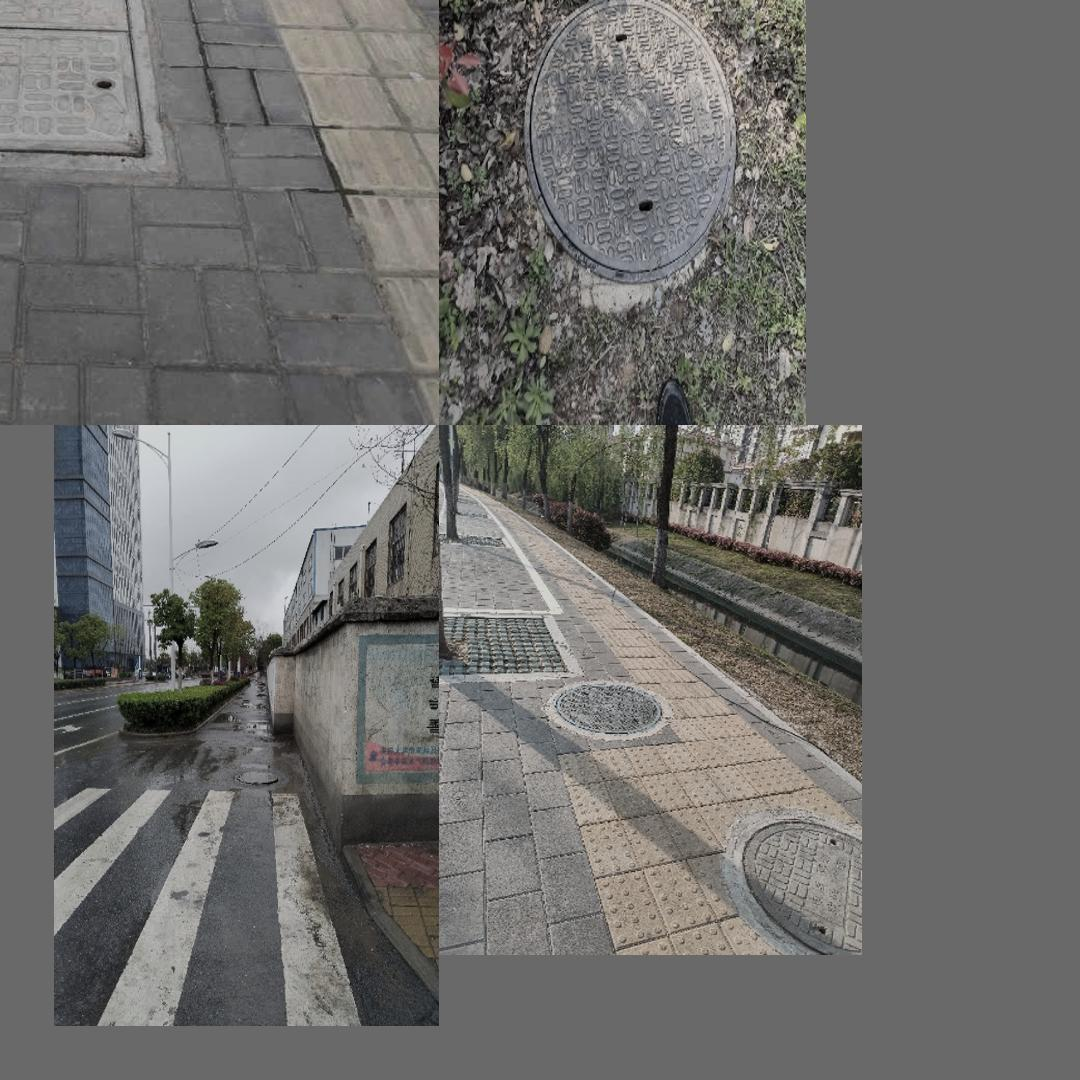good: (525, 0, 738, 281), (0, 0, 167, 167), (732, 813, 862, 955), (547, 679, 671, 737), (222, 760, 286, 791)
